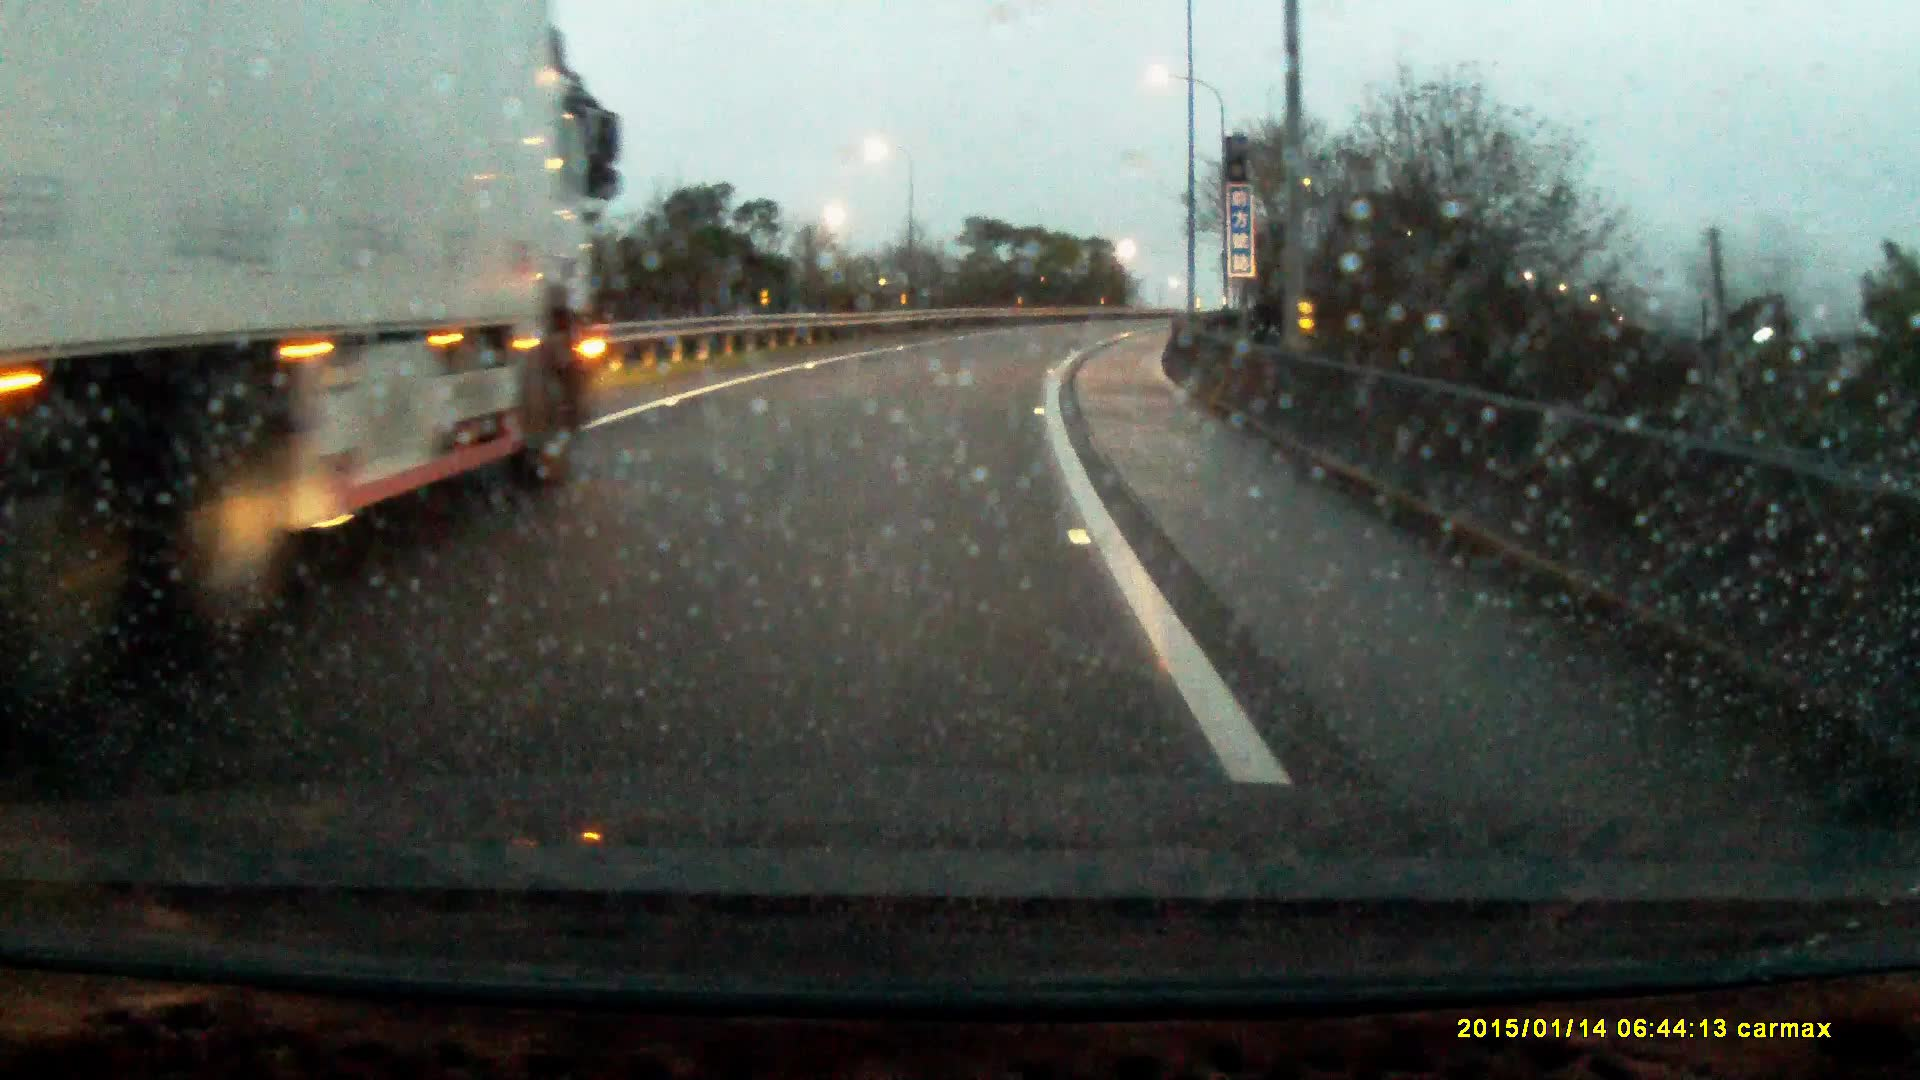vehicle: (1, 1, 626, 638)
